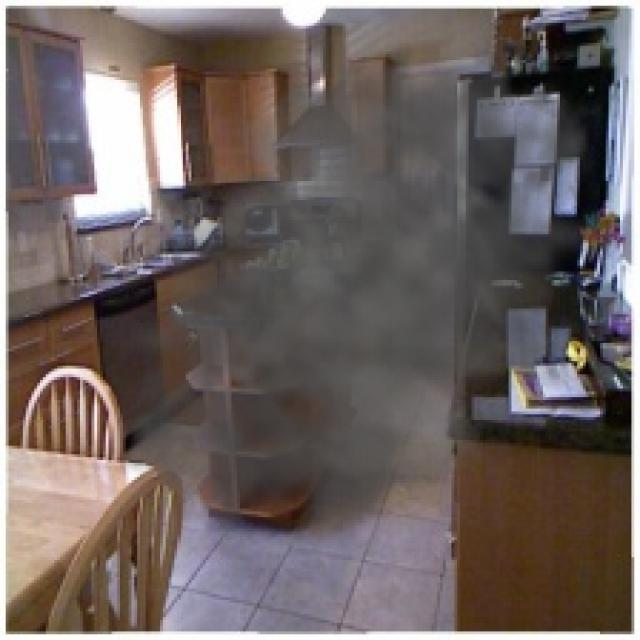Smoke: (89, 2, 632, 572)
